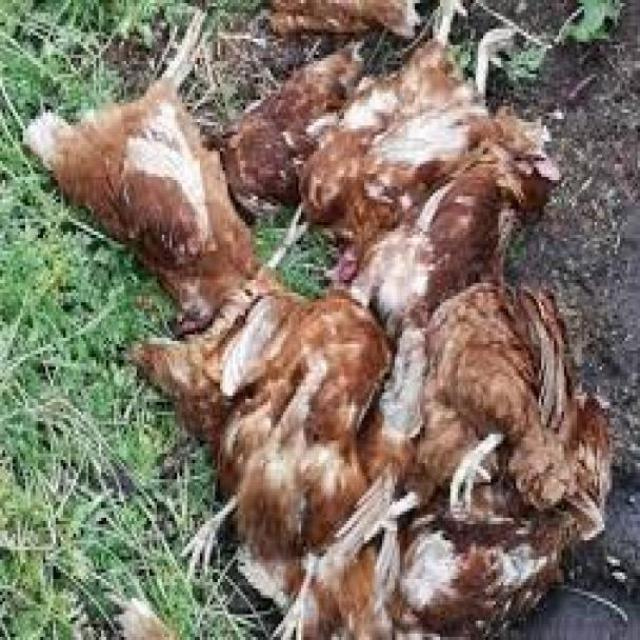Chicken: (28, 6, 288, 312)
